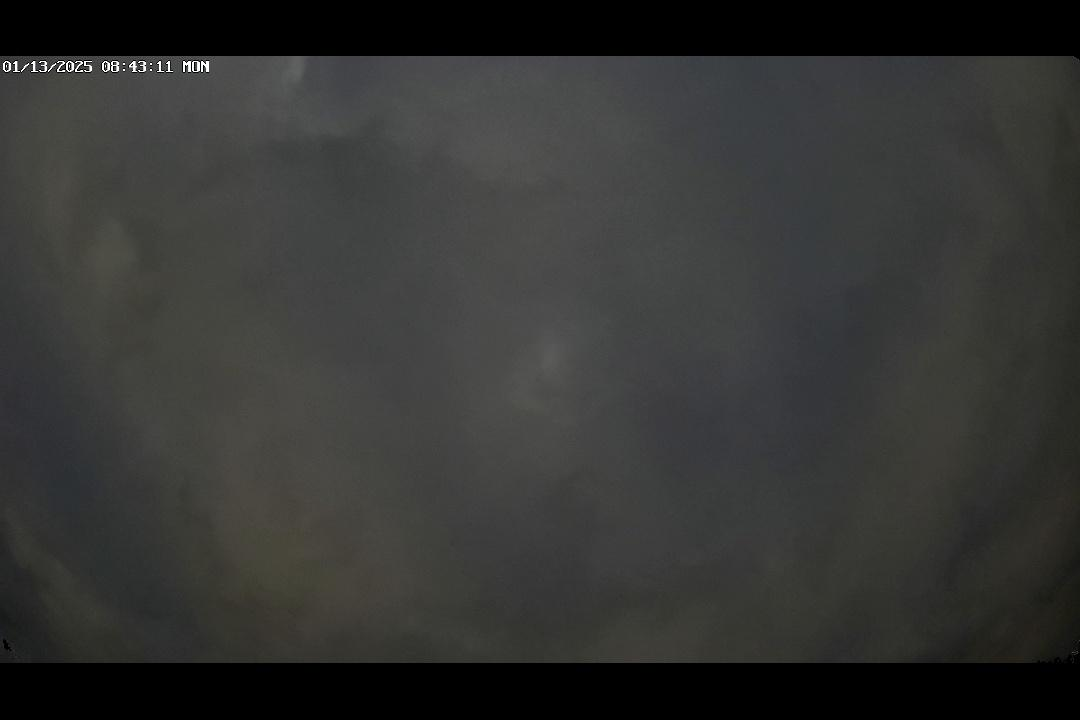WildLife: (0, 630, 22, 657)
